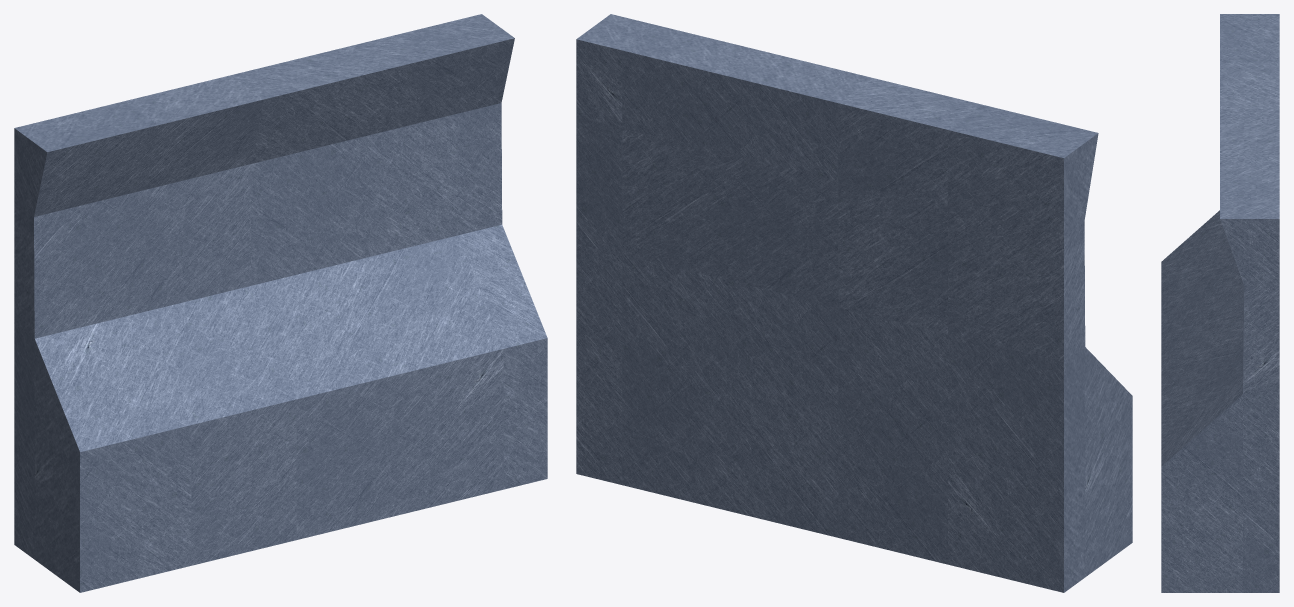
Rendered from reactor_room_console_large.glb.
3 renders of one model, left to right at view 1: azimuth 30°, elevation 25°; view 2: azimuth 150°, elevation 25°; view 3: azimuth 270°, elevation 25°, orthographic. The views are drawn at different scales.
Visible parts, largest first — view 1: Cube; view 2: Cube; view 3: Cube.
Part boxes in pixels (x1=…): Cube: x1=14, y1=14, x2=547, y2=592; Cube: x1=576, y1=14, x2=1132, y2=592; Cube: x1=1161, y1=14, x2=1279, y2=592.
Bounding box in the file's own units: 4.02 × 3.43 × 0.9802.
Materials: 1 (1 with a texture image).
